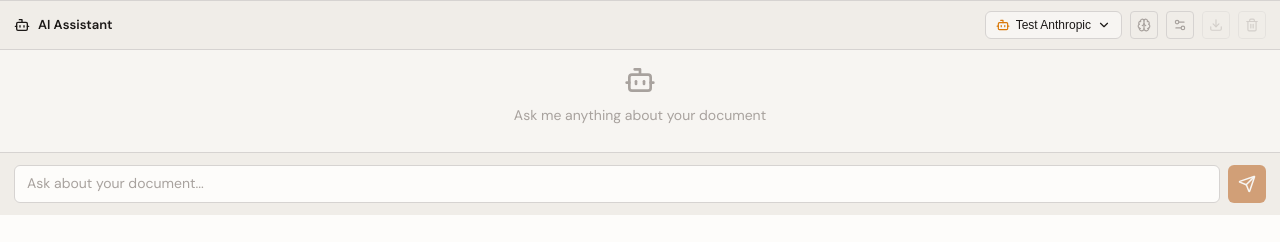
Test: AIChat › Streaming › displays token usage when provided
The width and height of the screenshot is (1280, 242).
Type "Test" into the text box with placeholder "Ask about your document...".
click(617, 184); type("Test")  # box [14,165,1220,203]
Then press Enter
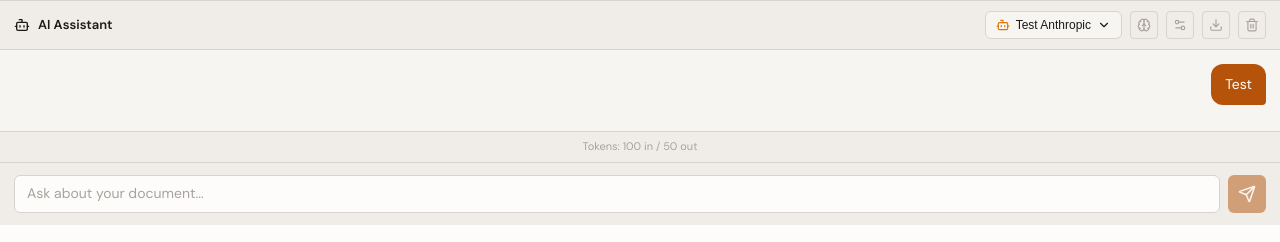
Expected: the text "Tokens: 100 in / 50 out" is shown, [582,138,697,156]
